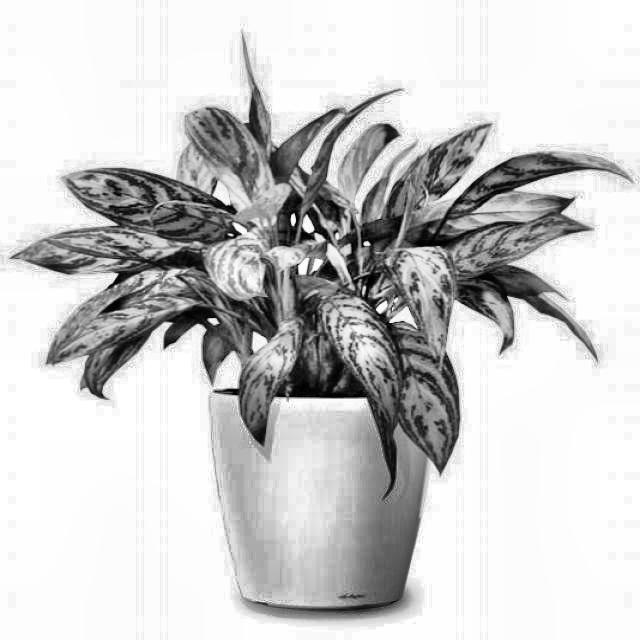plants: (66, 54, 576, 616)
